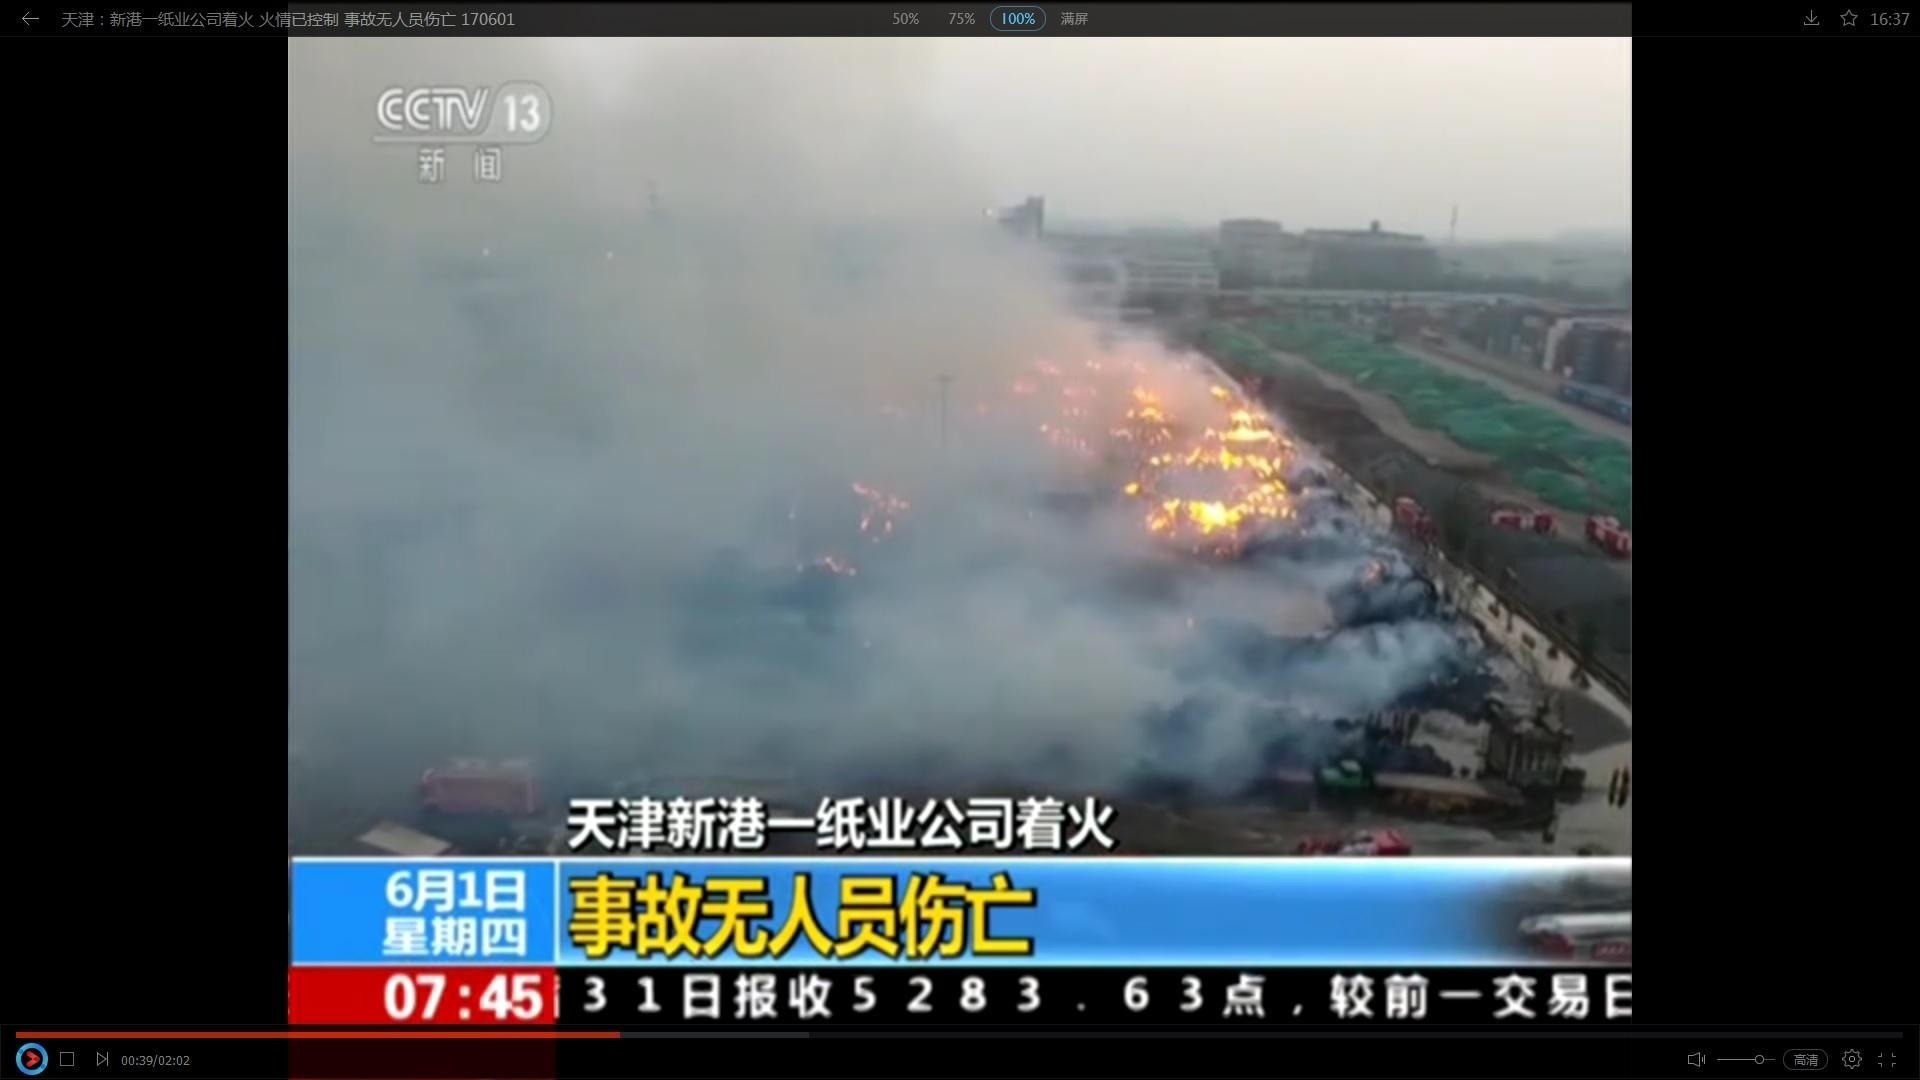fire: (1004, 334, 1308, 541), (828, 467, 918, 555)
